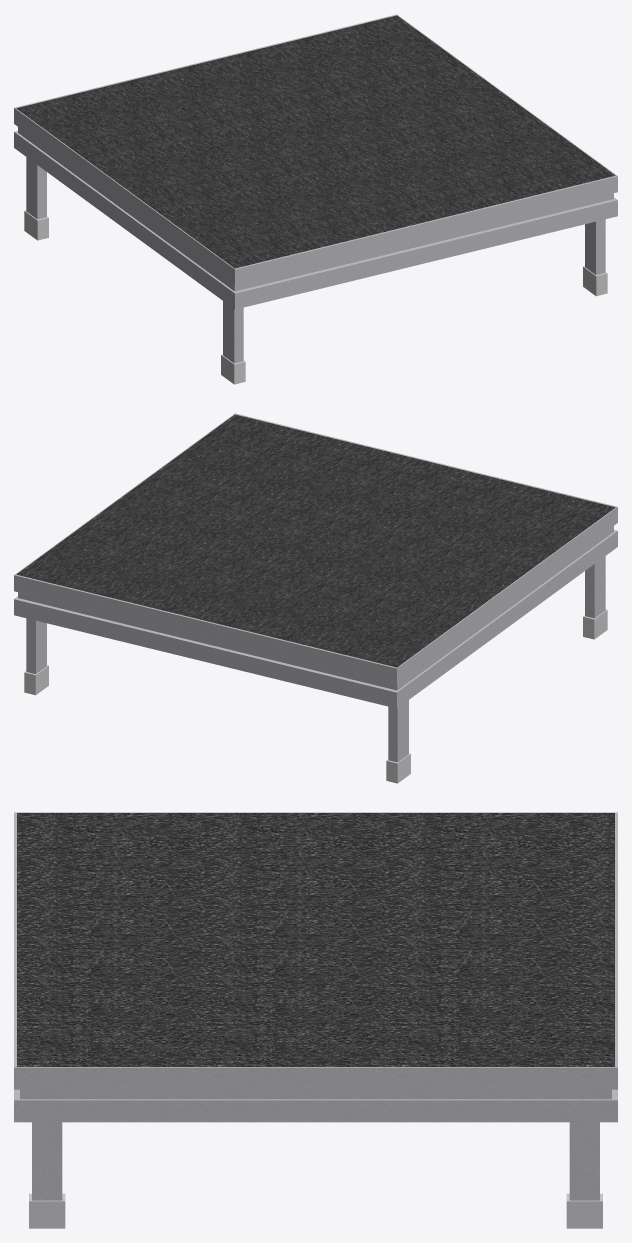
File: stage_praticavel_1x1.glb
3 renders of one model, top to bottom at view 1: azimuth 30°, elevation 25°; view 2: azimuth 150°, elevation 25°; view 3: azimuth 270°, elevation 25°, orthographic. The views are drawn at different scales.
Bounding box in the file's own units: 1 × 0.3 × 1.
4 materials, 2 textured.
